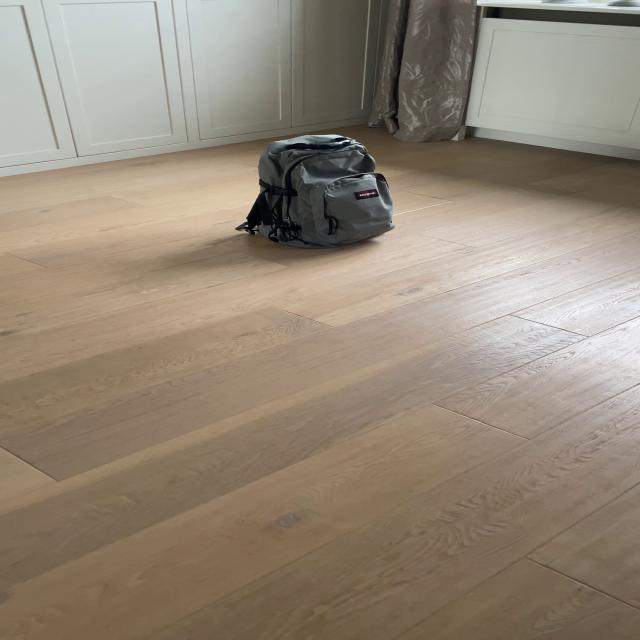backpack: (238, 130, 401, 252)
